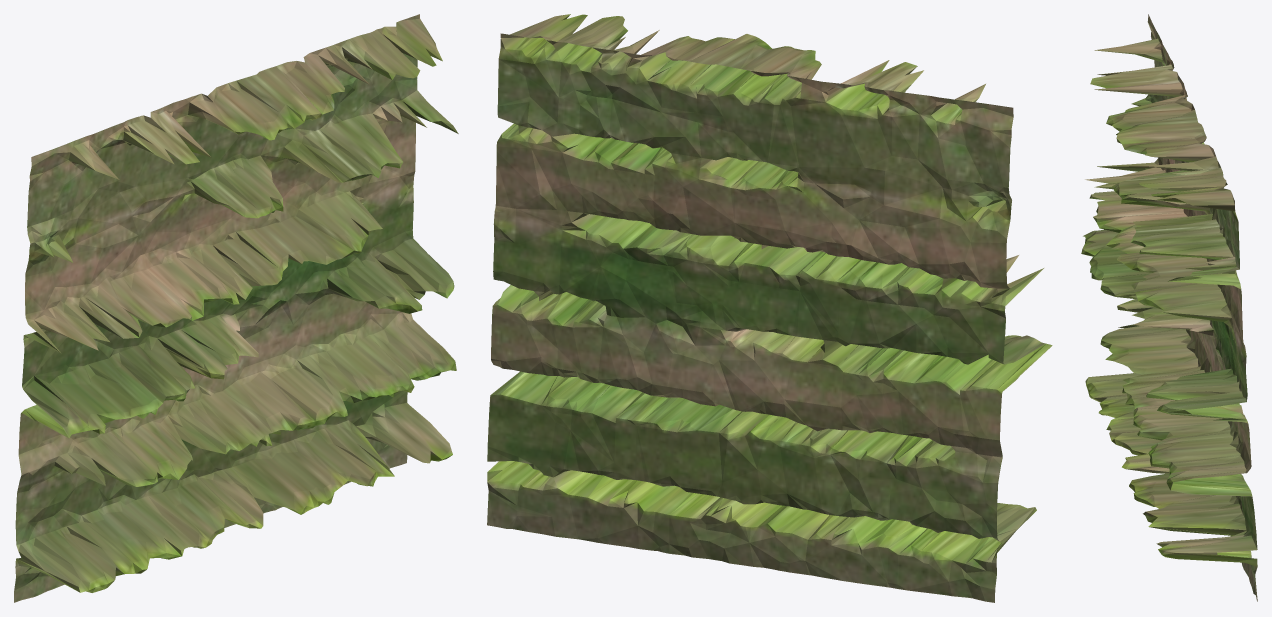
The model's file is map_200_30.obj.
3 views of the same model, side by side, from view 1: azimuth 30°, elevation 25°; view 2: azimuth 150°, elevation 25°; view 3: azimuth 270°, elevation 25° (orthographic). The views are drawn at different scales.
Visible parts, largest first — view 1: grp1; view 2: grp1; view 3: grp1.
Boxes of the visible parts, bbox=[...] form: grp1: bbox=[14, 14, 458, 602]; grp1: bbox=[487, 14, 1052, 602]; grp1: bbox=[1081, 14, 1257, 601].
Bounding box in the file's own units: 10 × 10 × 3.98.
Materials: 1 (1 with a texture image).
